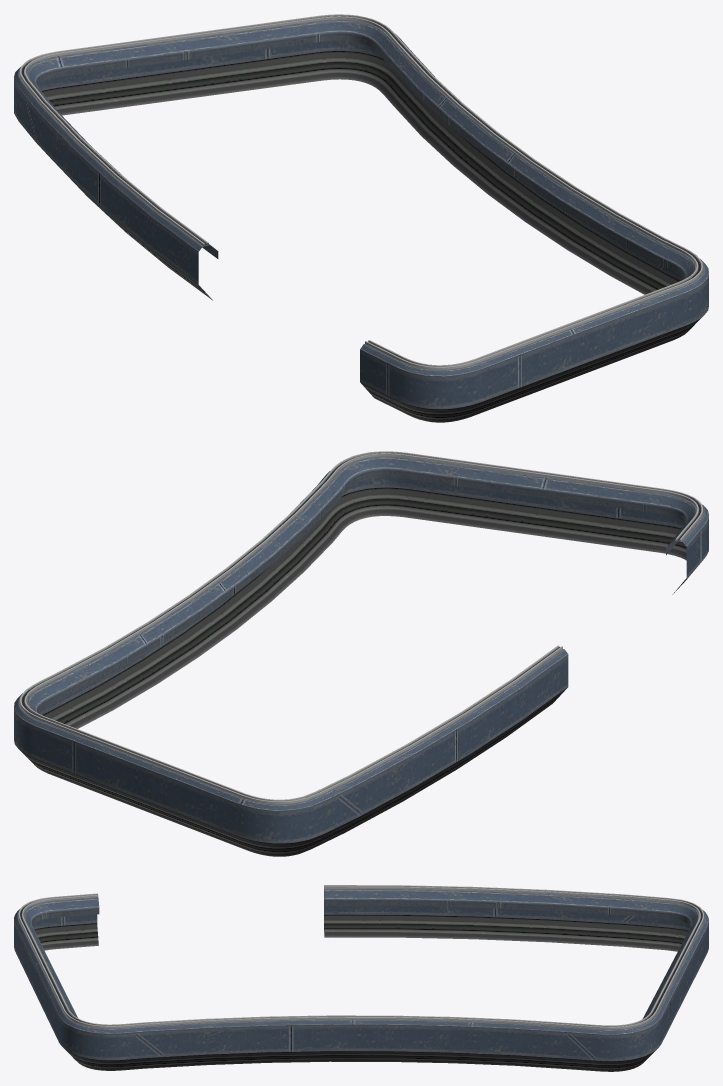
Rendered from Club_VIPFloorTrim_04.FBX.
3 views of the same model, one above another, from view 1: azimuth 30°, elevation 25°; view 2: azimuth 150°, elevation 25°; view 3: azimuth 270°, elevation 25° (orthographic). The views are drawn at different scales.
Parts seen in each view (by area): view 1: Club_VIPFloorTrim_04; view 2: Club_VIPFloorTrim_04; view 3: Club_VIPFloorTrim_04.
Part boxes in pixels (left/top/right/bottom): Club_VIPFloorTrim_04: left=14, top=14, right=708, bottom=422; Club_VIPFloorTrim_04: left=14, top=451, right=708, bottom=856; Club_VIPFloorTrim_04: left=14, top=885, right=708, bottom=1071.
Size of the model in its own units: 9.46 by 1.46 by 18.94.
